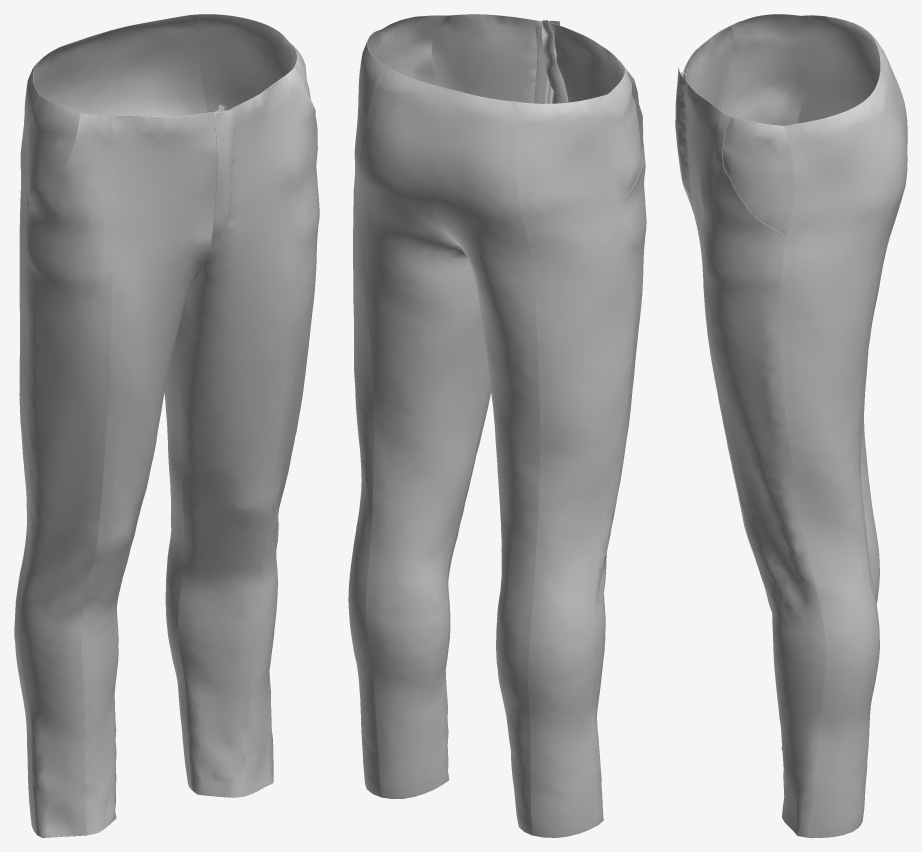
The model's file is paint_style.glb.
The picture shows the model from 3 angles, left to right: view 1: azimuth 30°, elevation 25°; view 2: azimuth 150°, elevation 25°; view 3: azimuth 270°, elevation 25°; orthographic projection. The views are drawn at different scales.
Visible parts, largest first — view 1: Cloth; view 2: Cloth; view 3: Cloth.
Part boxes in pixels (x1,y1,x2,y2): Cloth: [14, 14, 319, 837]; Cloth: [348, 14, 646, 837]; Cloth: [675, 14, 907, 837].
Bounding box in the file's own units: 36.88 × 96.1 × 27.99.
Materials: 10 (4 with a texture image).
